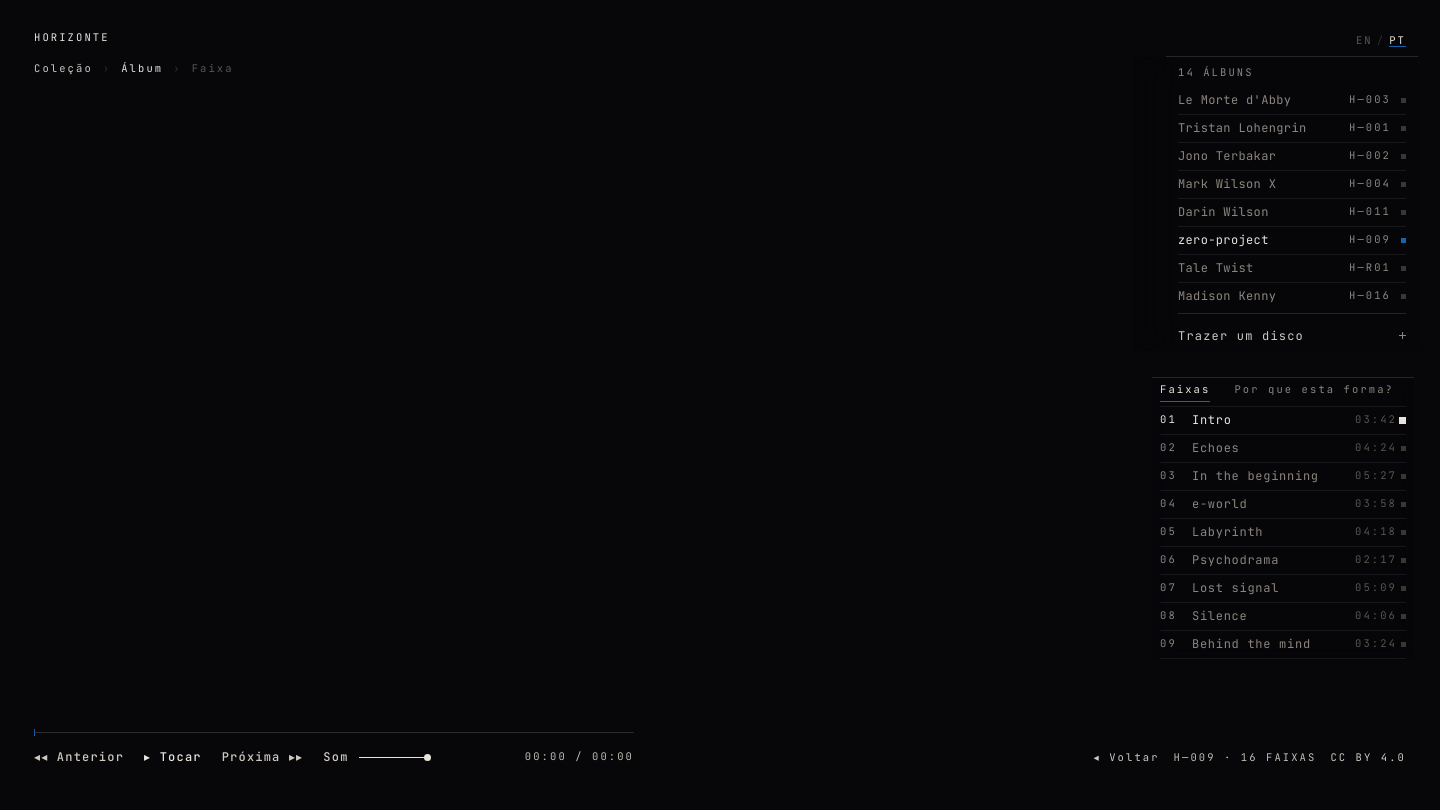
Test: room for the longer language › the comparison hint breaks only at its separator
The width and height of the screenshot is (1440, 810).
Step 1. Click the tab "Por que esta forma?" → (1314, 390), box [1234,378,1394,402]
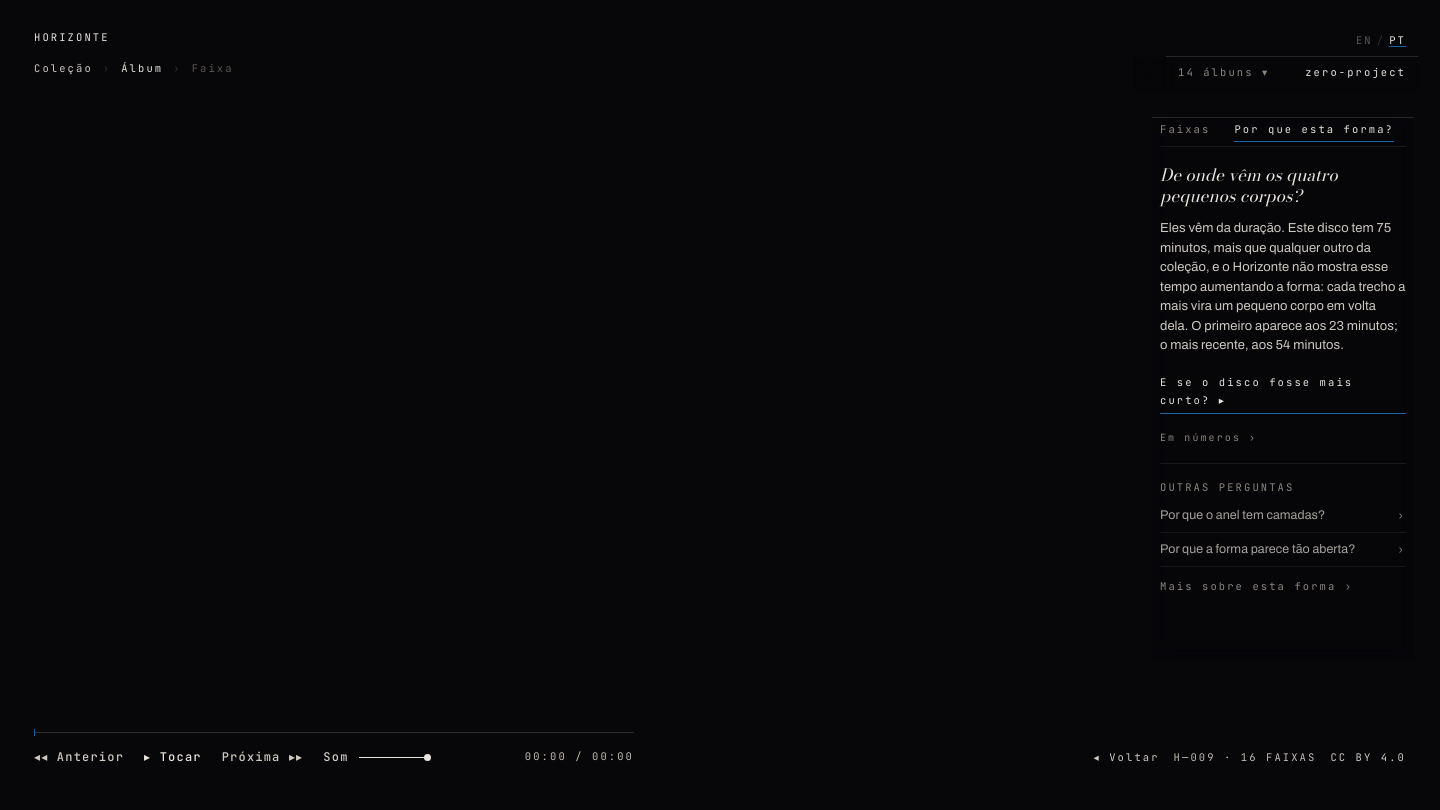
Step 2. Click the button "E se o disco fosse mais curto? ▸" → (1283, 394), box [1160,374,1406,414]
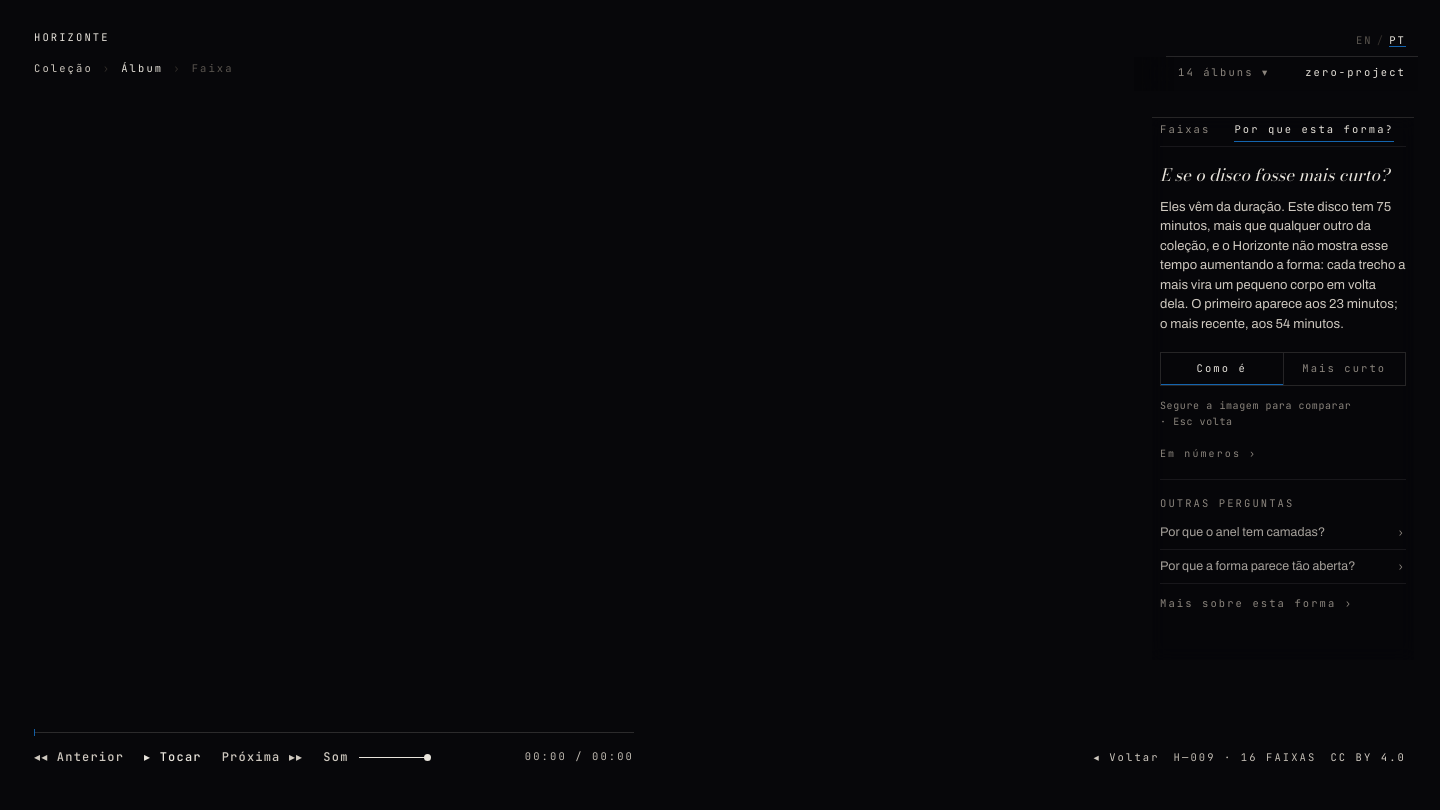
Expected: the element showing "Segure a imagem para comparar · Esc volta" is shown, [1160,399,1351,428]
